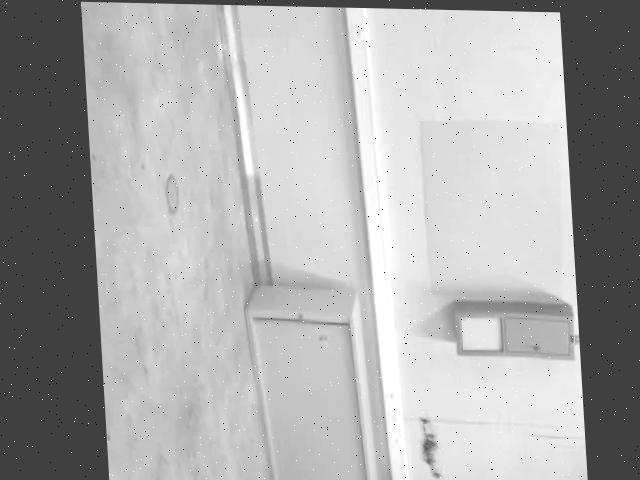drone: (404, 402, 454, 480)
